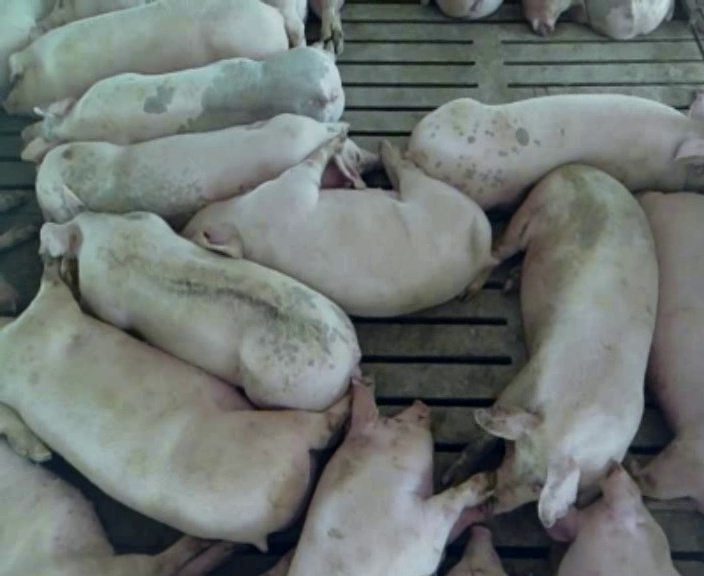pig: (0, 256, 348, 549), (41, 184, 359, 409), (183, 139, 493, 316), (289, 378, 493, 574), (22, 40, 344, 161), (408, 94, 703, 208), (4, 2, 288, 113), (629, 192, 703, 510), (546, 465, 677, 574), (585, 1, 673, 39), (436, 0, 501, 19)
